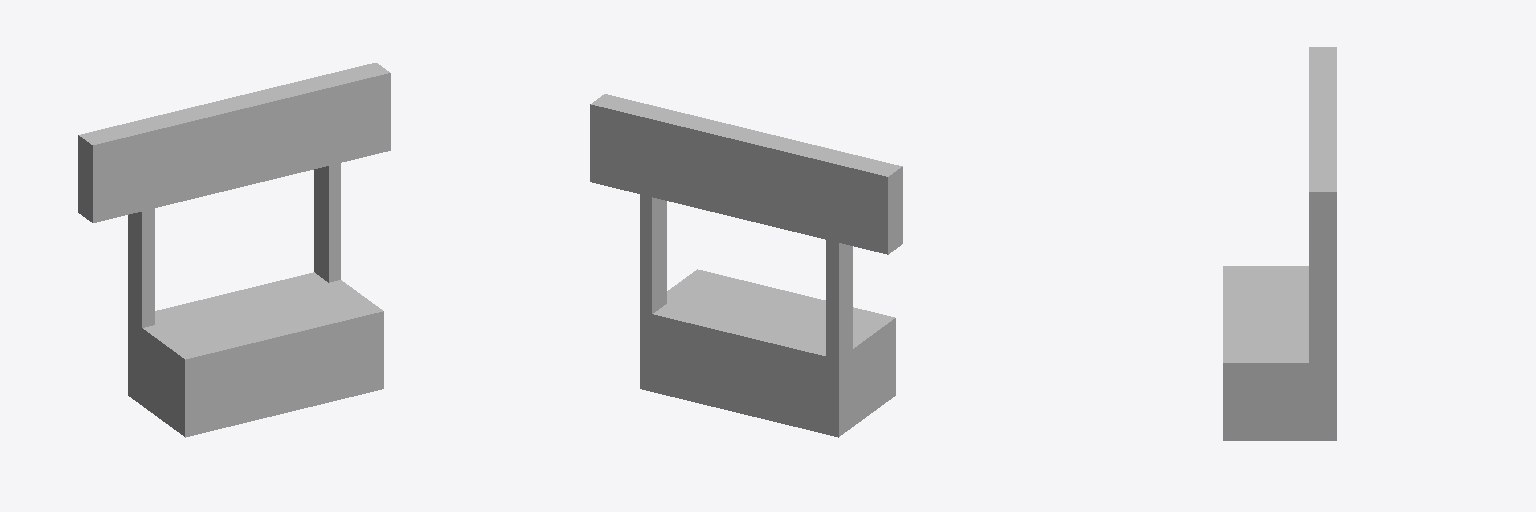
The model's file is shop.obj.
3 renders of one model, left to right at view 1: azimuth 30°, elevation 25°; view 2: azimuth 150°, elevation 25°; view 3: azimuth 270°, elevation 25°, orthographic.
Visible parts, largest first — view 1: cube; view 2: cube; view 3: cube.
Part boxes in pixels (x1,y1,x2,y2): cube: (78, 63, 390, 437); cube: (590, 94, 902, 437); cube: (1223, 47, 1336, 440).
Size of the model in its own units: 3 by 2.62 by 1.